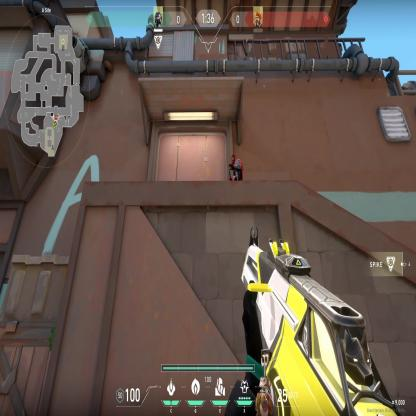enemy: (228, 152, 244, 180)
